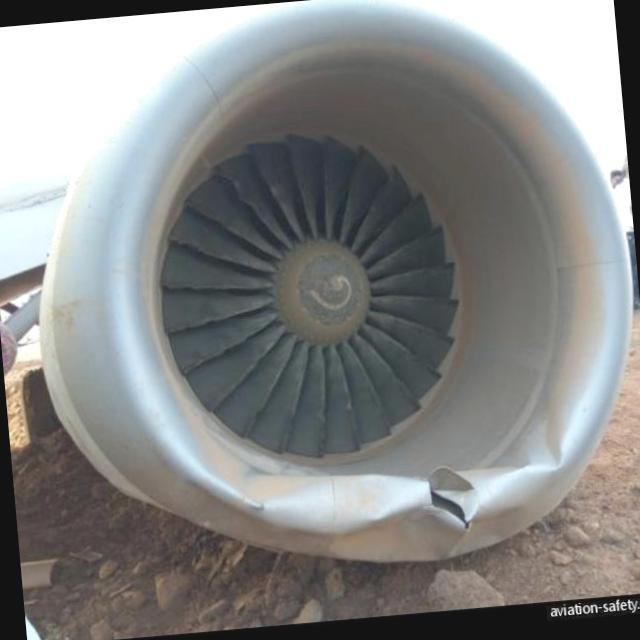crack: (429, 485, 472, 536)
dent: (247, 464, 428, 542), (523, 426, 566, 474)
